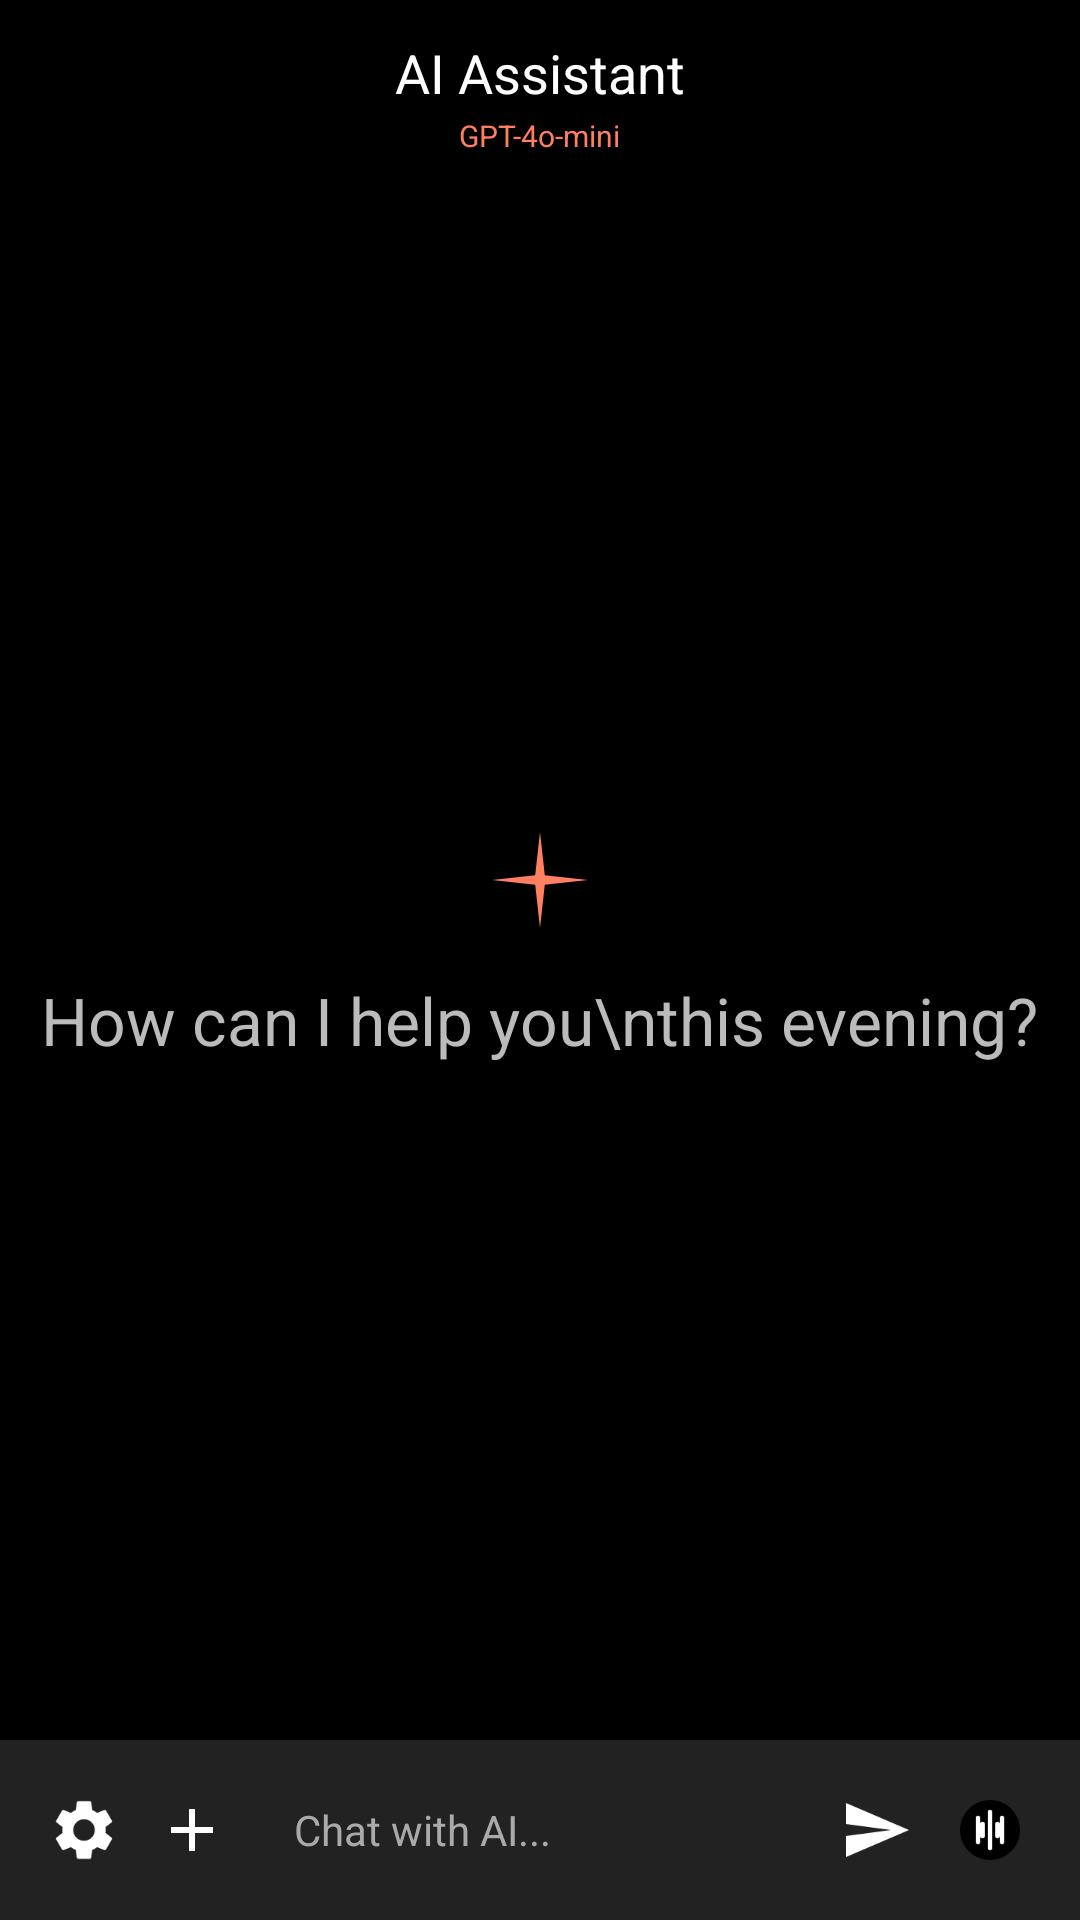

Icons on this 1080 × 1920 Android screen, each with the point to tap as point (x, y):
New Chat: point (192, 1830)
Send: point (877, 1830)
Settings: point (84, 1830)
Sound Wave: point (990, 1830)
sparkle: point (540, 880)
